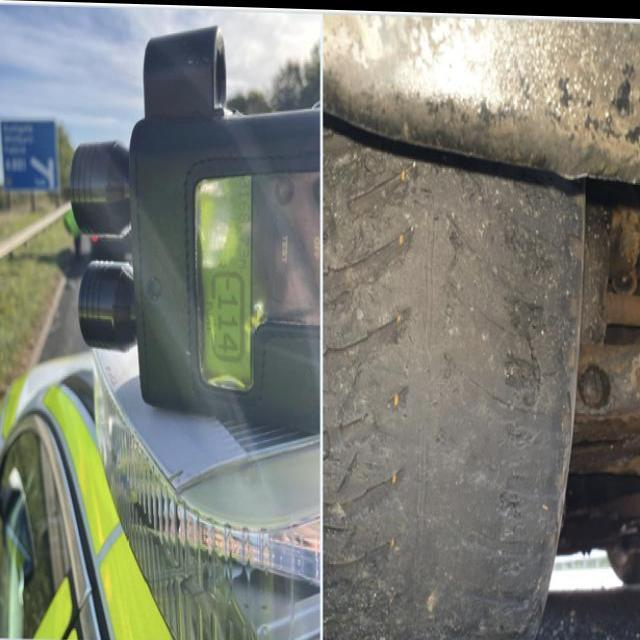Flat spots: (325, 183, 536, 639)
